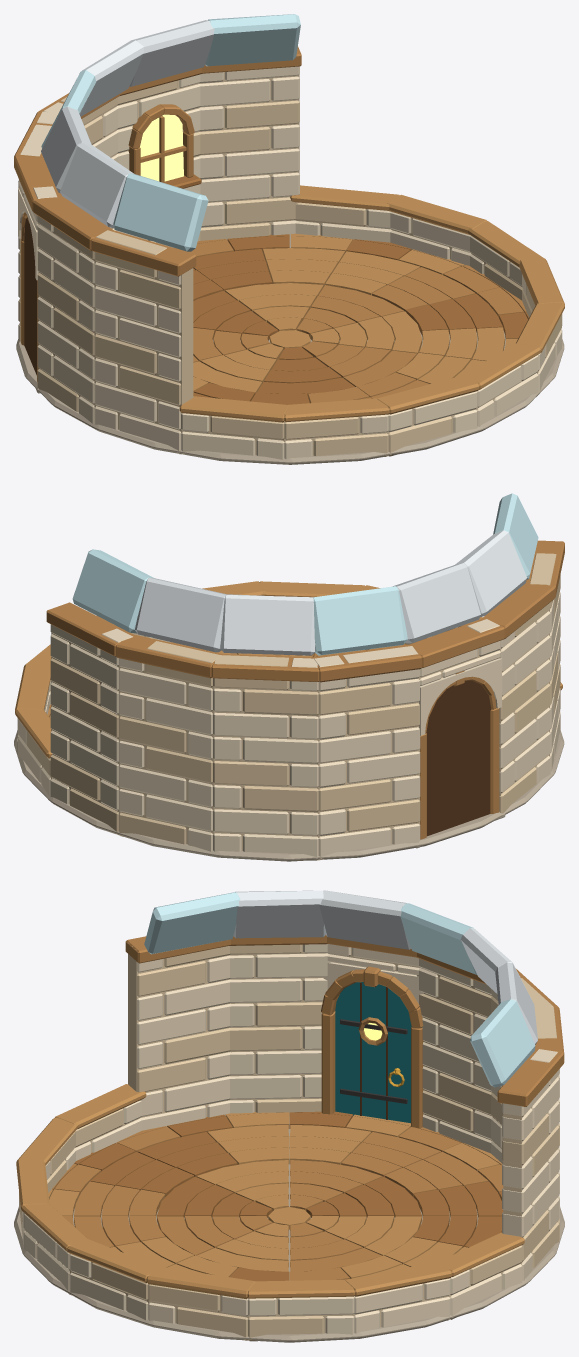
Rendered from snow_dome_interior.glb.
The picture shows the model from 3 angles, top to bottom: view 1: azimuth 30°, elevation 25°; view 2: azimuth 150°, elevation 25°; view 3: azimuth 270°, elevation 25°; orthographic projection.
Parts seen in each view (by area): view 1: snow_dome_interior; view 2: snow_dome_interior; view 3: snow_dome_interior, part_door_leaf.
Boxes of the visible parts, box(x1,y1,x2,y2) form: snow_dome_interior: box(14, 14, 564, 464); snow_dome_interior: box(14, 493, 564, 861); snow_dome_interior: box(14, 890, 564, 1342); part_door_leaf: box(335, 982, 411, 1123).
Size of the model in its own units: 5.17 by 2.53 by 5.17.
